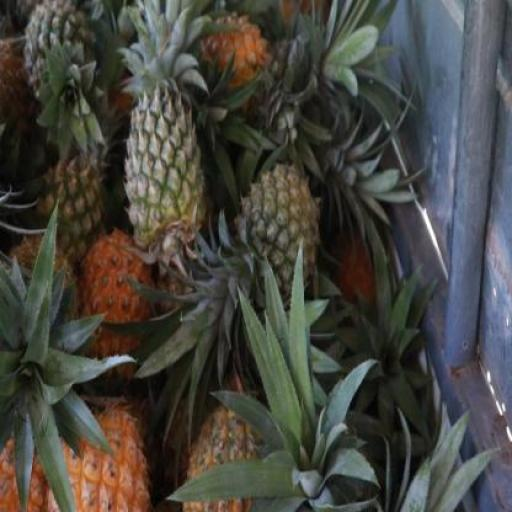Pineapple - v8 v1: (44, 391, 146, 512), (77, 224, 151, 372), (200, 15, 278, 98)
